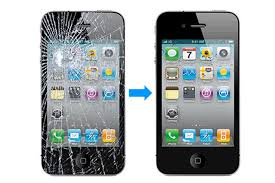iphone: (154, 8, 242, 176)
iphone5: (154, 8, 242, 176)
